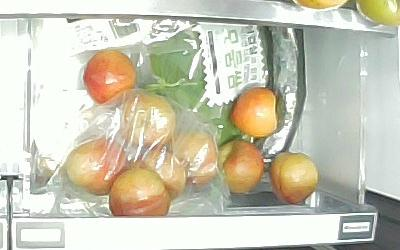prune: (108, 168, 170, 216), (84, 50, 137, 105), (214, 140, 265, 195), (230, 86, 278, 139), (271, 151, 317, 205)
prune_vinyl: (66, 138, 129, 194), (168, 129, 218, 187), (122, 93, 176, 146), (135, 149, 186, 199)
